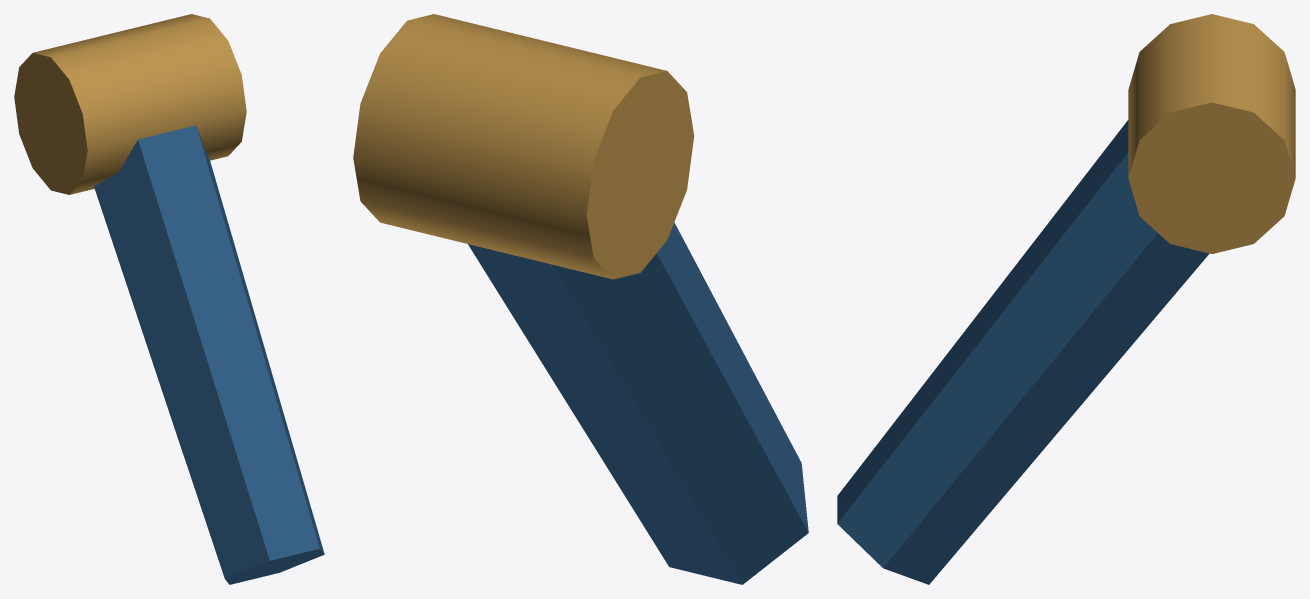
File: rm2_tool_upper.obj
The picture shows the model from 3 angles, left to right: view 1: azimuth 30°, elevation 25°; view 2: azimuth 150°, elevation 25°; view 3: azimuth 270°, elevation 25°; orthographic projection. The views are drawn at different scales.
Parts seen in each view (by area): view 1: rm2_tool_upper; view 2: rm2_tool_upper; view 3: rm2_tool_upper.
Part boxes in pixels (<box>): rm2_tool_upper: <box>14,14,324,584</box>; rm2_tool_upper: <box>353,14,808,584</box>; rm2_tool_upper: <box>837,14,1295,584</box>.
Bounding box in the file's own units: 0.07 × 0.1893 × 0.1534.
